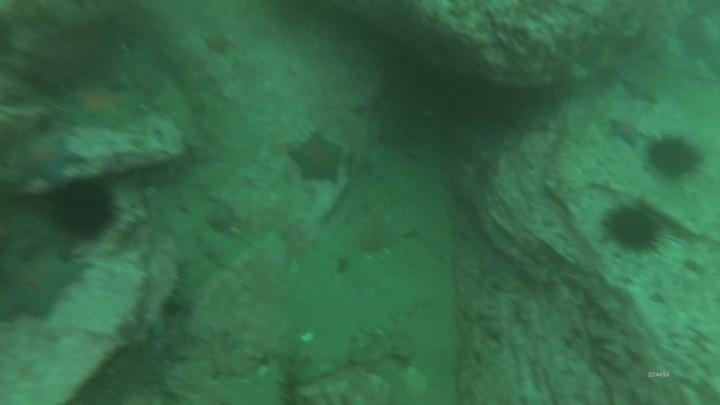echinus: (50, 177, 121, 242), (601, 201, 666, 255), (644, 133, 704, 181)
starfish: (1, 242, 89, 325), (60, 79, 144, 132), (12, 132, 88, 188), (286, 130, 347, 187), (605, 115, 648, 151), (198, 27, 236, 58), (623, 78, 660, 108)
